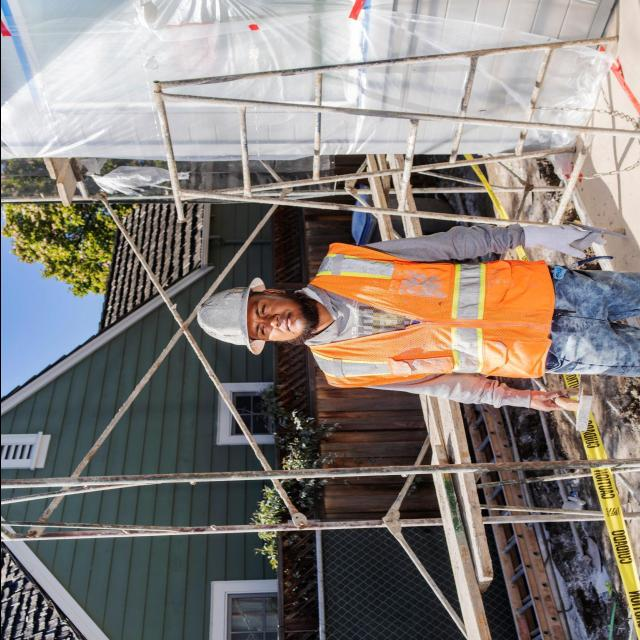helmet: (195, 269, 263, 363)
jacket: (309, 226, 555, 388)
